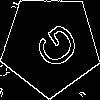G: (25, 20, 82, 78)
